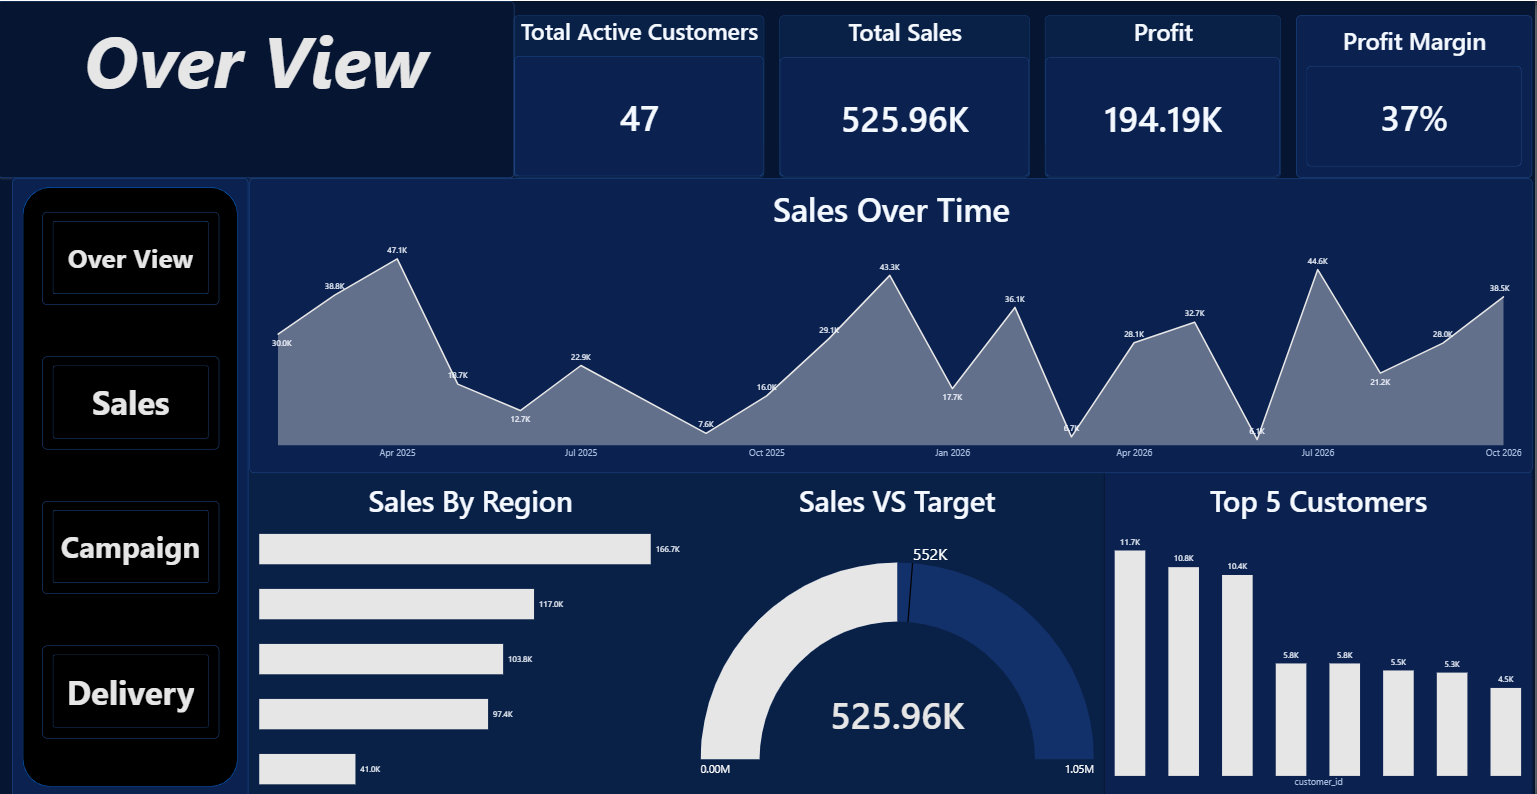

The page's visual inventory and layout, read from the dashboard file:
{"tool":"powerbi","page":{"name":"OverVIew","canvas":[2500,1300],"ordinal":0},"visuals":[{"type":"cardVisual","title":"Total Active Customers","fields":{"Data":["_measures.total_active_customers"]},"box":[840,24,408,264],"z":0},{"type":"shape","box":[24,288,384,1008],"z":0,"group":"g3"},{"type":"group","id":"g1","title":"Group 1","box":[24,288,384,1008],"z":0,"group":"g2"},{"type":"cardVisual","title":"Total Sales","fields":{"Data":["_measures.total_sales"]},"box":[1272,24,408,264],"z":1000},{"type":"actionButton","box":[72,343.7,288,151.2],"z":1000,"group":"g2"},{"type":"cardVisual","title":"Profit","fields":{"Data":["_measures.Profit"]},"box":[1704,24,384,264],"z":2000},{"type":"actionButton","box":[72,578.9,288,151.2],"z":2000,"group":"g2"},{"type":"cardVisual","title":"Profit Margin","fields":{"Data":["_measures.Profit_margin"]},"box":[2112,24,384,264],"z":3000},{"type":"actionButton","box":[72,814.1,288,151.2],"z":3000,"group":"g2"},{"type":"barChart","title":"Sales By Region","fields":{"Category":["dim_customer.region_name"],"Y":["Sum(fact_sales.line_total)"]},"box":[408,768,720,528],"z":4000},{"type":"actionButton","box":[72,1049.2,288,151.2],"z":4000,"group":"g2"},{"type":"gauge","title":"Sales VS Target","fields":{"TargetValue":["Sum(fact_sales_targets.target_revenue)"],"Y":["_measures.total_sales"]},"box":[1128,768,672,528],"z":5000},{"type":"columnChart","title":"Top 5 Customers","fields":{"Category":["dim_customer.customer_id"],"Y":["Sum(fact_sales.line_total)"]},"box":[1800,768,696,528],"z":6000},{"type":"textbox","box":[0,0,840,288],"z":7000},{"type":"group","id":"g2","title":"Group 3","box":[24,288,384,1008],"z":8000},{"type":"areaChart","title":"Sales Over Time","fields":{"Category":["dim_date.Date.Variation.Date Hierarchy.Year","dim_date.Date.Variation.Date Hierarchy.Month"],"Y":["Sum(fact_sales.line_total)"]},"box":[408,288,2088,480],"z":9000},{"type":"group","id":"g3","title":"Group 2","box":[24,288,384,1008],"z":9007,"group":"g1"}]}

Visuals, with their boxes in screenshot pixels (x1, y1, x2, y2), scaled from the page's 2500x1300 canvas onto the 1537x794 screenshot:
"Total Active Customers" cardVisual: bbox=[516, 15, 767, 176]
shape: bbox=[15, 176, 251, 792]
"Group 1" group: bbox=[15, 176, 251, 792]
"Total Sales" cardVisual: bbox=[782, 15, 1033, 176]
actionButton: bbox=[44, 210, 221, 302]
"Profit" cardVisual: bbox=[1048, 15, 1284, 176]
actionButton: bbox=[44, 354, 221, 446]
"Profit Margin" cardVisual: bbox=[1298, 15, 1535, 176]
actionButton: bbox=[44, 497, 221, 590]
"Sales By Region" barChart: bbox=[251, 469, 693, 792]
actionButton: bbox=[44, 641, 221, 733]
"Sales VS Target" gauge: bbox=[693, 469, 1107, 792]
"Top 5 Customers" columnChart: bbox=[1107, 469, 1535, 792]
textbox: bbox=[0, 0, 516, 176]
"Group 3" group: bbox=[15, 176, 251, 792]
"Sales Over Time" areaChart: bbox=[251, 176, 1535, 469]
"Group 2" group: bbox=[15, 176, 251, 792]
